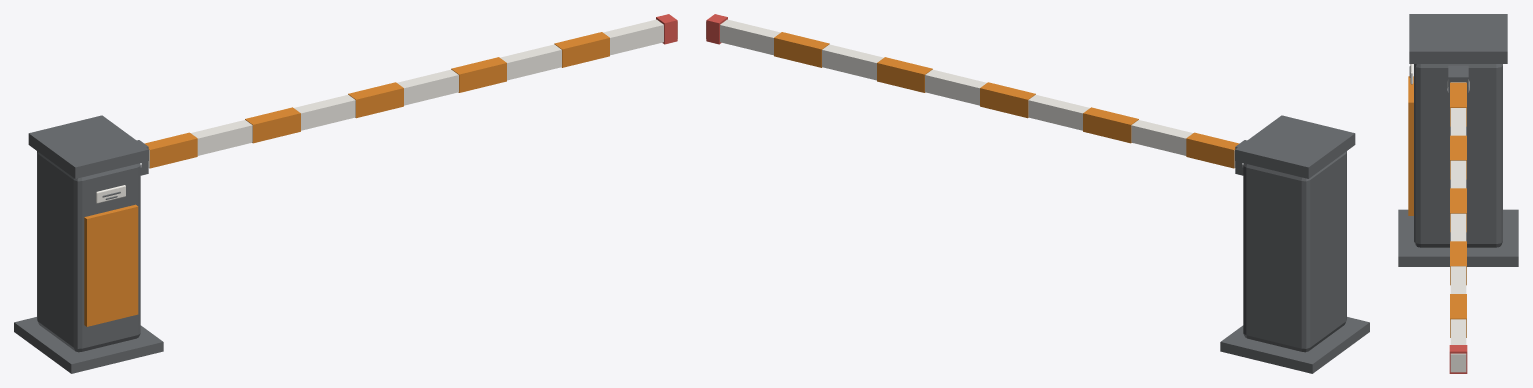
Rendered from self-storage-facility-and-loading-bay-self-storage-fac-17dd0a14__34724.glb.
3 renders of one model, left to right at view 1: azimuth 30°, elevation 25°; view 2: azimuth 150°, elevation 25°; view 3: azimuth 270°, elevation 25°, orthographic. The views are drawn at different scales.
Visible parts, largest first — view 1: self-storage-facility-and-loading-bay-entrance-barrier-arm, barrier-arm/cream, barrier-arm/orange; view 2: self-storage-facility-and-loading-bay-entrance-barrier-arm, barrier-arm/cream, barrier-arm/orange; view 3: self-storage-facility-and-loading-bay-entrance-barrier-arm, barrier-arm/cream, barrier-arm/orange, barrier-arm/charcoal, barrier-arm/red.
Boxes of the visible parts, box(x1,y1,x2,y2) form: self-storage-facility-and-loading-bay-entrance-barrier-arm: box(14, 115, 163, 373); barrier-arm/cream: box(148, 19, 677, 167); barrier-arm/orange: box(144, 32, 609, 168); self-storage-facility-and-loading-bay-entrance-barrier-arm: box(1220, 115, 1369, 373); barrier-arm/cream: box(706, 19, 1235, 167); barrier-arm/orange: box(774, 32, 1239, 168); self-storage-facility-and-loading-bay-entrance-barrier-arm: box(1398, 14, 1518, 266); barrier-arm/cream: box(1450, 82, 1466, 372); barrier-arm/orange: box(1450, 82, 1466, 337); barrier-arm/charcoal: box(1448, 65, 1468, 105); barrier-arm/red: box(1449, 345, 1467, 373).
Size of the model in its own units: 3.43 by 1.04 by 0.54.
